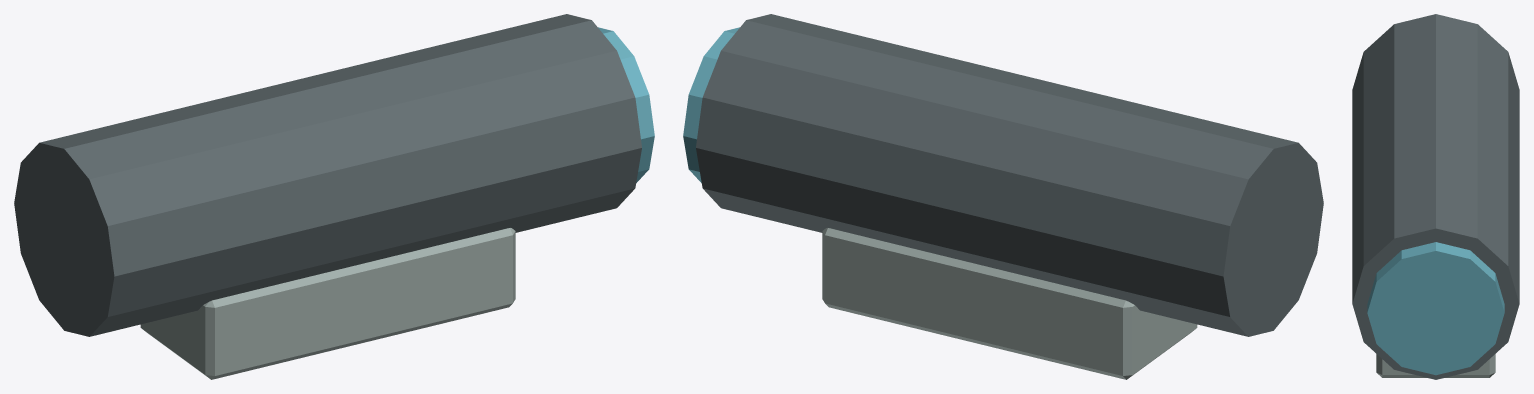
Rendered from scope.glb.
3 renders of one model, left to right at view 1: azimuth 30°, elevation 25°; view 2: azimuth 150°, elevation 25°; view 3: azimuth 270°, elevation 25°, orthographic. The views are drawn at different scales.
Visible parts, largest first — view 1: Scope body; view 2: Scope body; view 3: Scope body.
Boxes of the visible parts, box(x1,y1,x2,y2) form: Scope body: box(14, 14, 654, 379); Scope body: box(683, 14, 1323, 379); Scope body: box(1352, 14, 1519, 379).
Size of the model in its own units: 0.177 by 0.0725 by 0.056.
